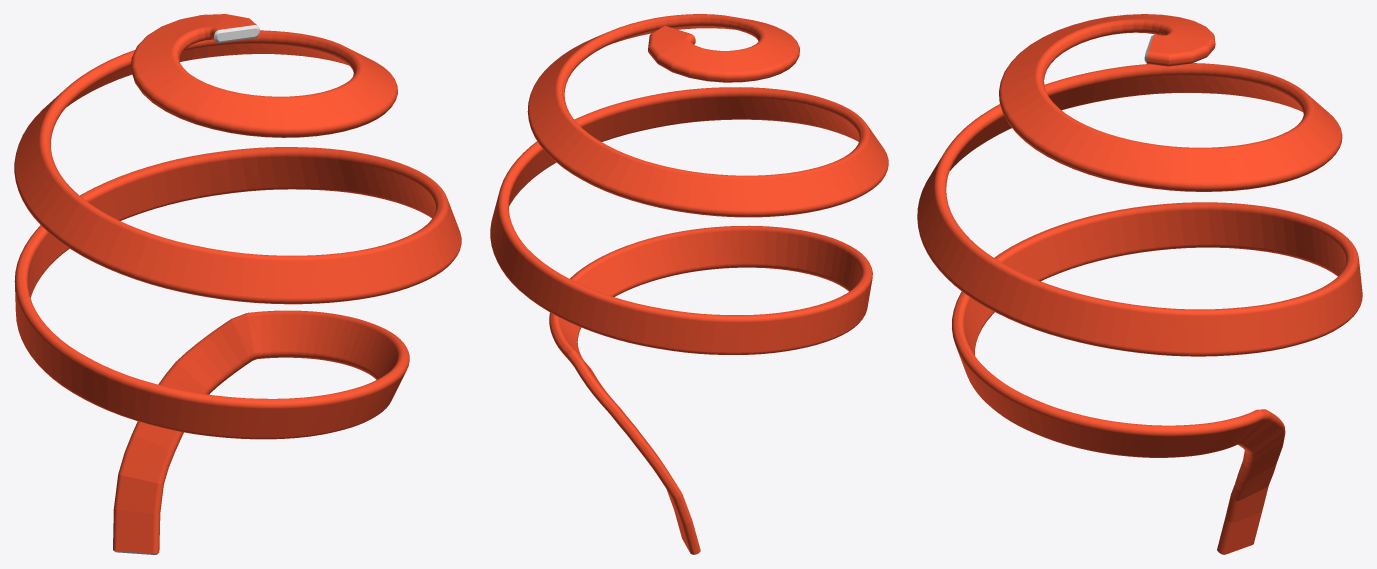
Rendered from OrangePeel_v4.fbx.
The picture shows the model from 3 angles, left to right: view 1: azimuth 30°, elevation 25°; view 2: azimuth 150°, elevation 25°; view 3: azimuth 270°, elevation 25°; orthographic projection. The views are drawn at different scales.
Visible parts, largest first — view 1: Sweep_NURBS; view 2: Sweep_NURBS; view 3: Sweep_NURBS.
Boxes of the visible parts, <box> form: Sweep_NURBS: <box>14,14,461,553</box>; Sweep_NURBS: <box>490,14,888,554</box>; Sweep_NURBS: <box>917,14,1362,554</box>.
Bounding box in the file's own units: 51.45 × 68.5 × 51.68.
